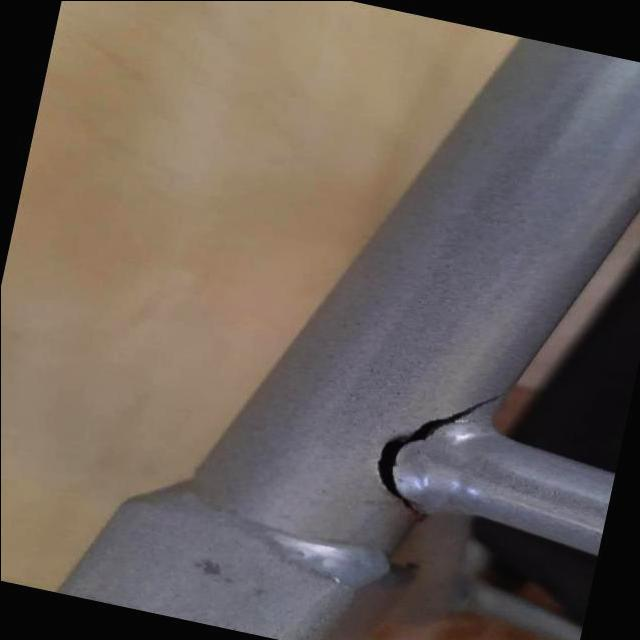defect: (365, 388, 512, 527)
